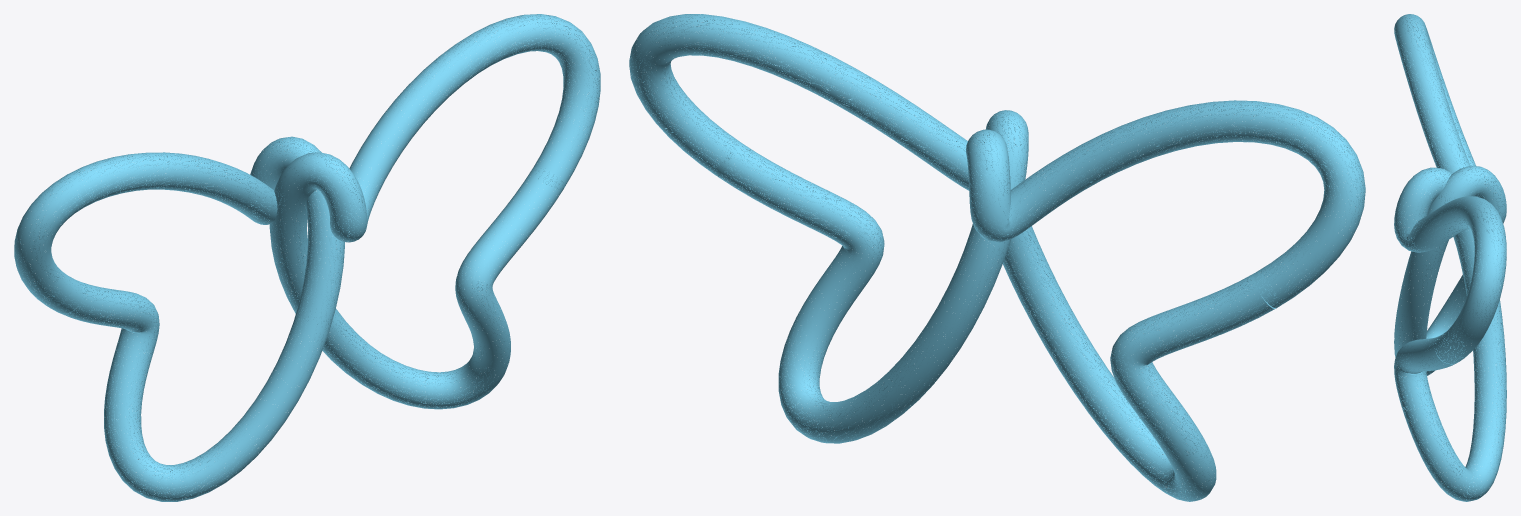
File: borboleta.glb
3 renders of one model, left to right at view 1: azimuth 30°, elevation 25°; view 2: azimuth 150°, elevation 25°; view 3: azimuth 270°, elevation 25°, orthographic. The views are drawn at different scales.
Visible parts, largest first — view 1: MyParametricCurve.001; view 2: MyParametricCurve.001; view 3: MyParametricCurve.001.
Part boxes in pixels (x1,y1,x2,y2): MyParametricCurve.001: [14, 14, 600, 501]; MyParametricCurve.001: [629, 14, 1365, 501]; MyParametricCurve.001: [1394, 14, 1506, 501].
Bounding box in the file's own units: 7.64 × 4.29 × 1.4.
